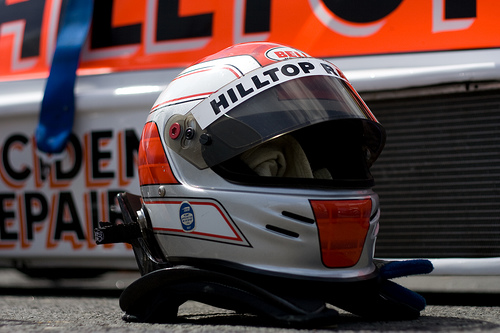helmet: (146, 56, 387, 272)
